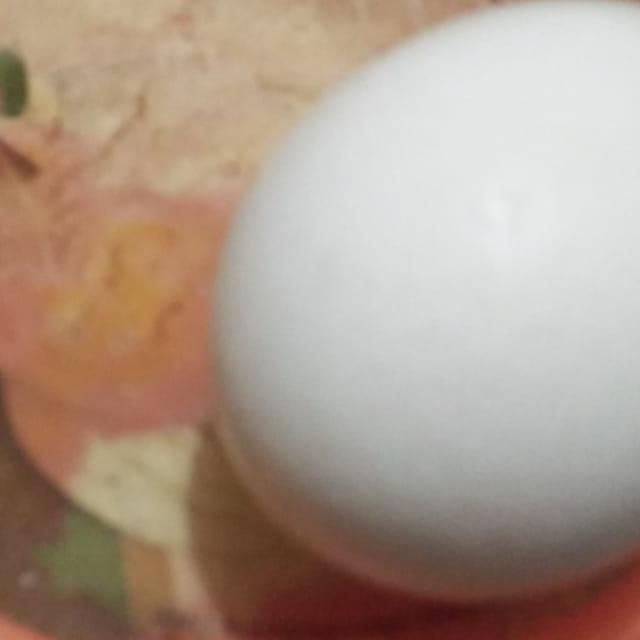egg: (210, 0, 640, 635)
